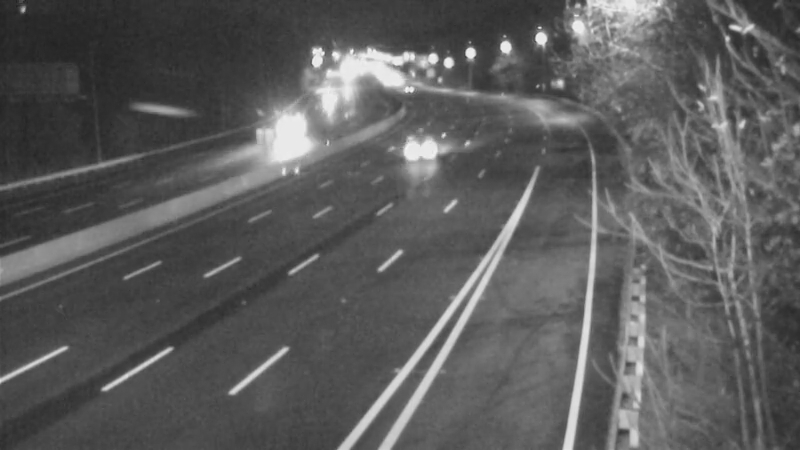vehicle: (381, 65, 431, 115), (393, 118, 443, 168), (258, 108, 308, 158), (303, 71, 353, 121)
